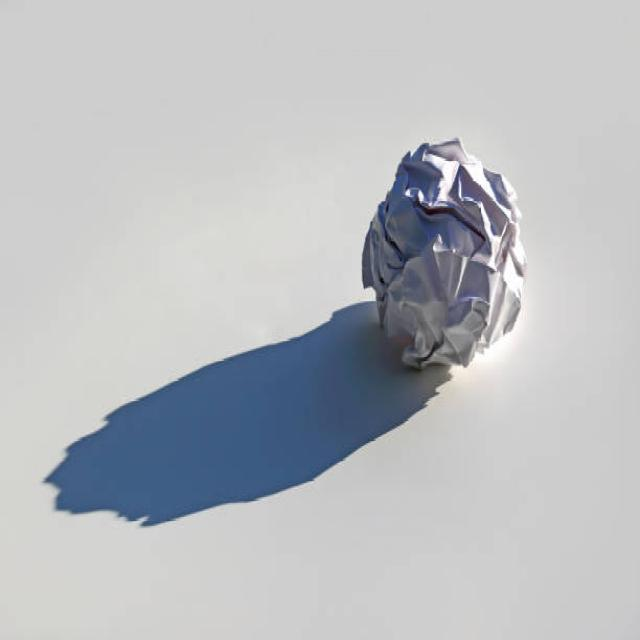electronic: (361, 136, 527, 370)
